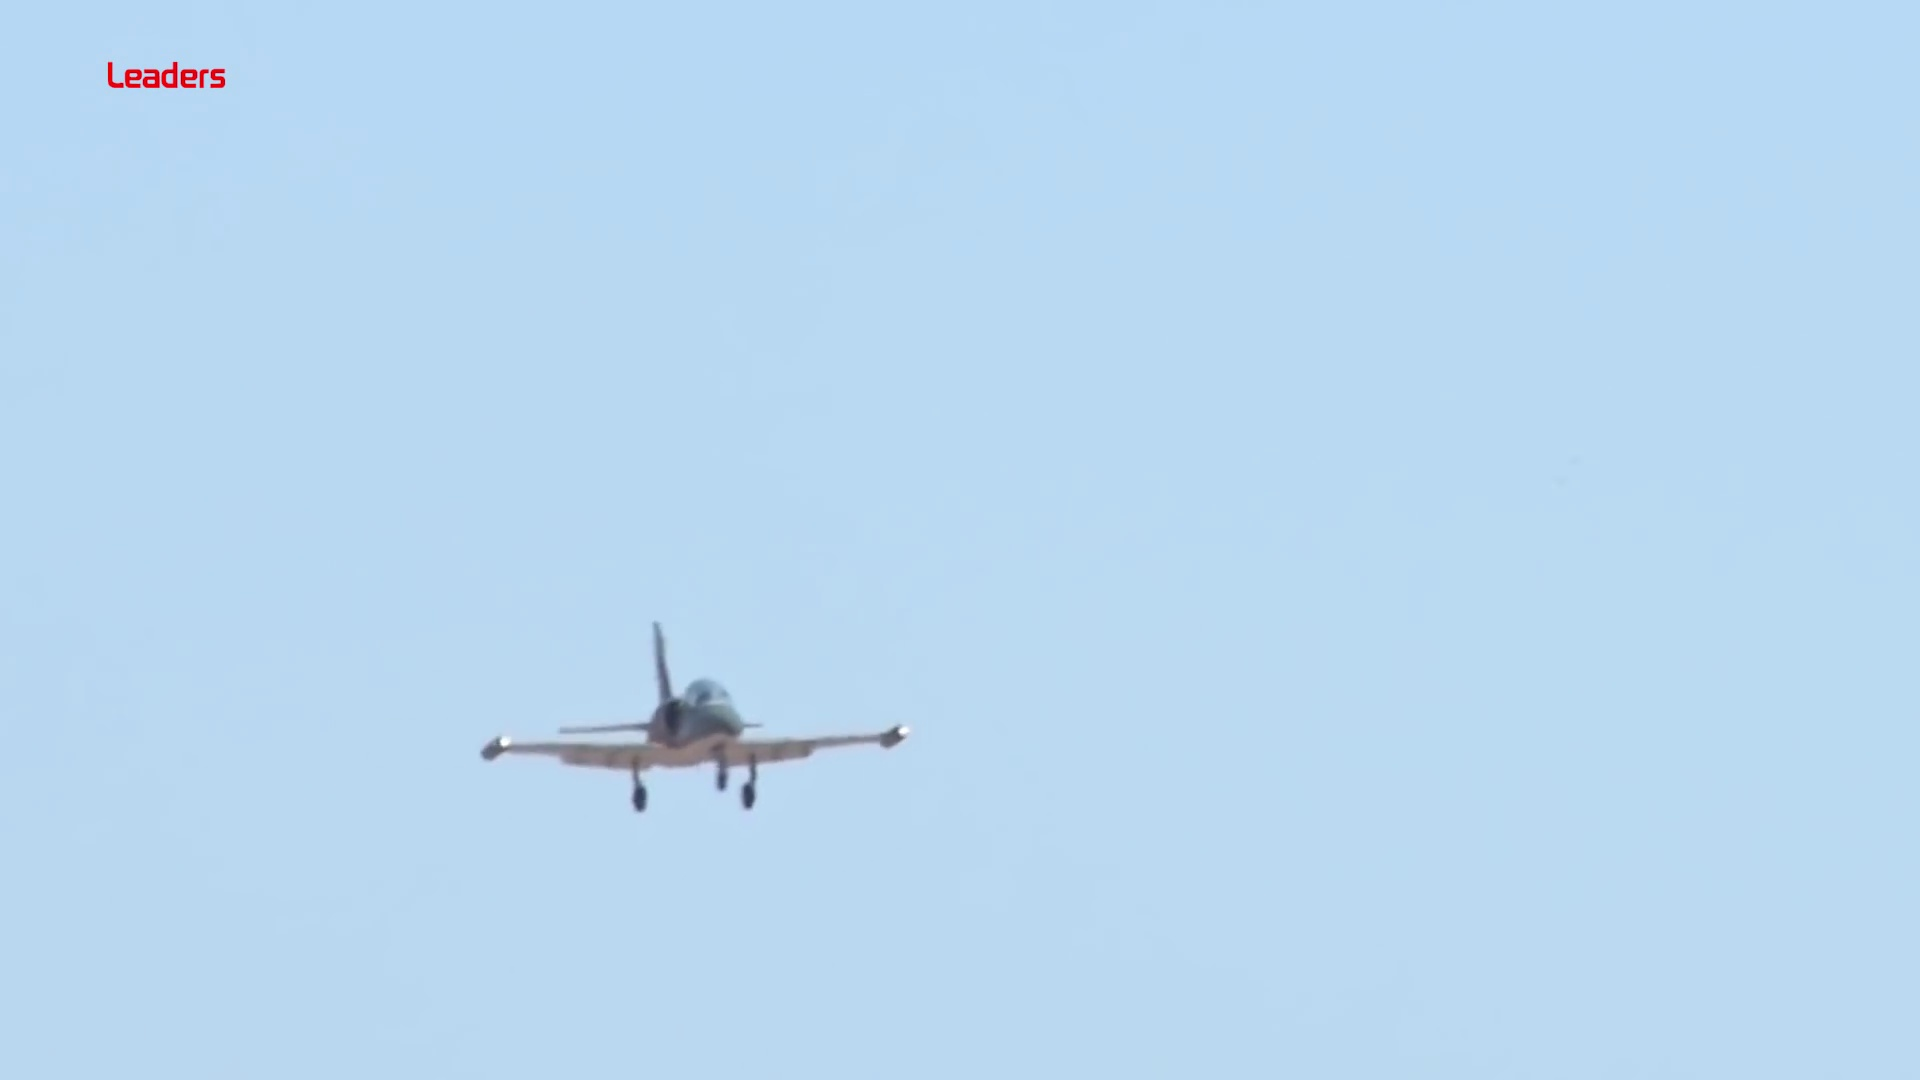Airplane: (471, 615, 911, 804)
